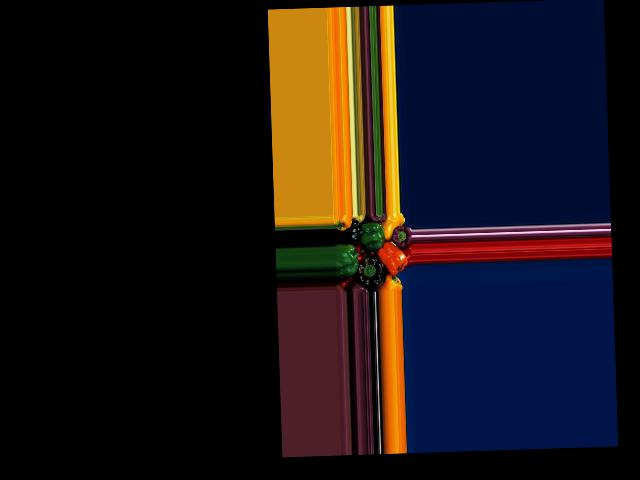bell_pepper: (333, 244, 356, 278)
